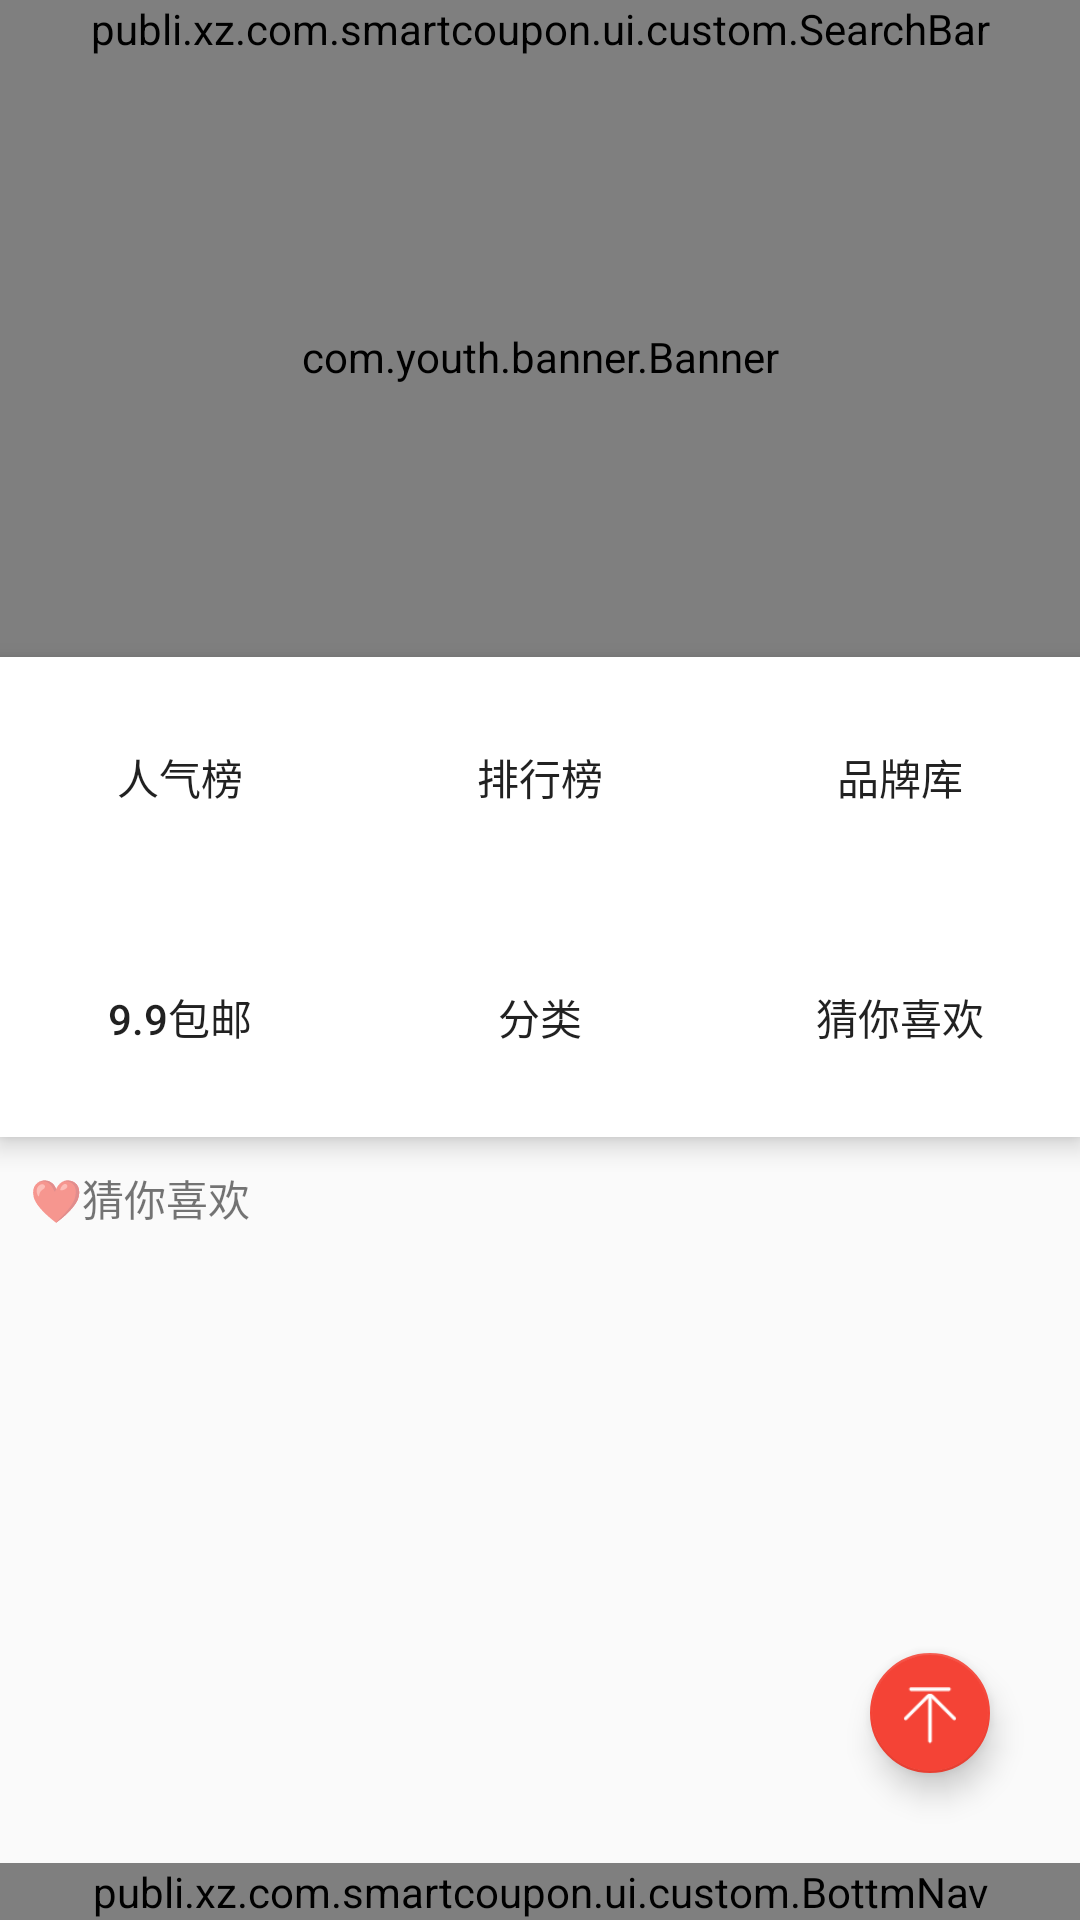

Screen size 1080*1920. Icon name, then its center in pixels as [x,y]:
to top: [930,1713]
